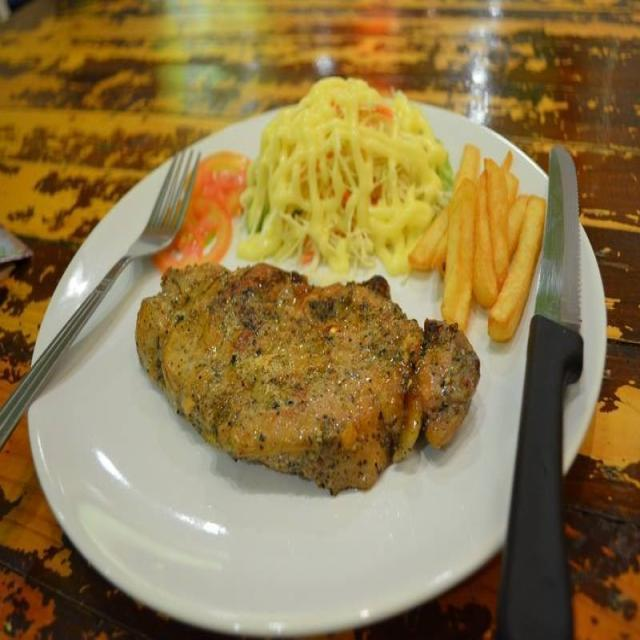cac loai rau cu: (233, 75, 494, 291)
khoai tay chien: (413, 138, 544, 336)
thit heo: (134, 270, 490, 490)
thit lon bistek: (128, 75, 549, 485)
